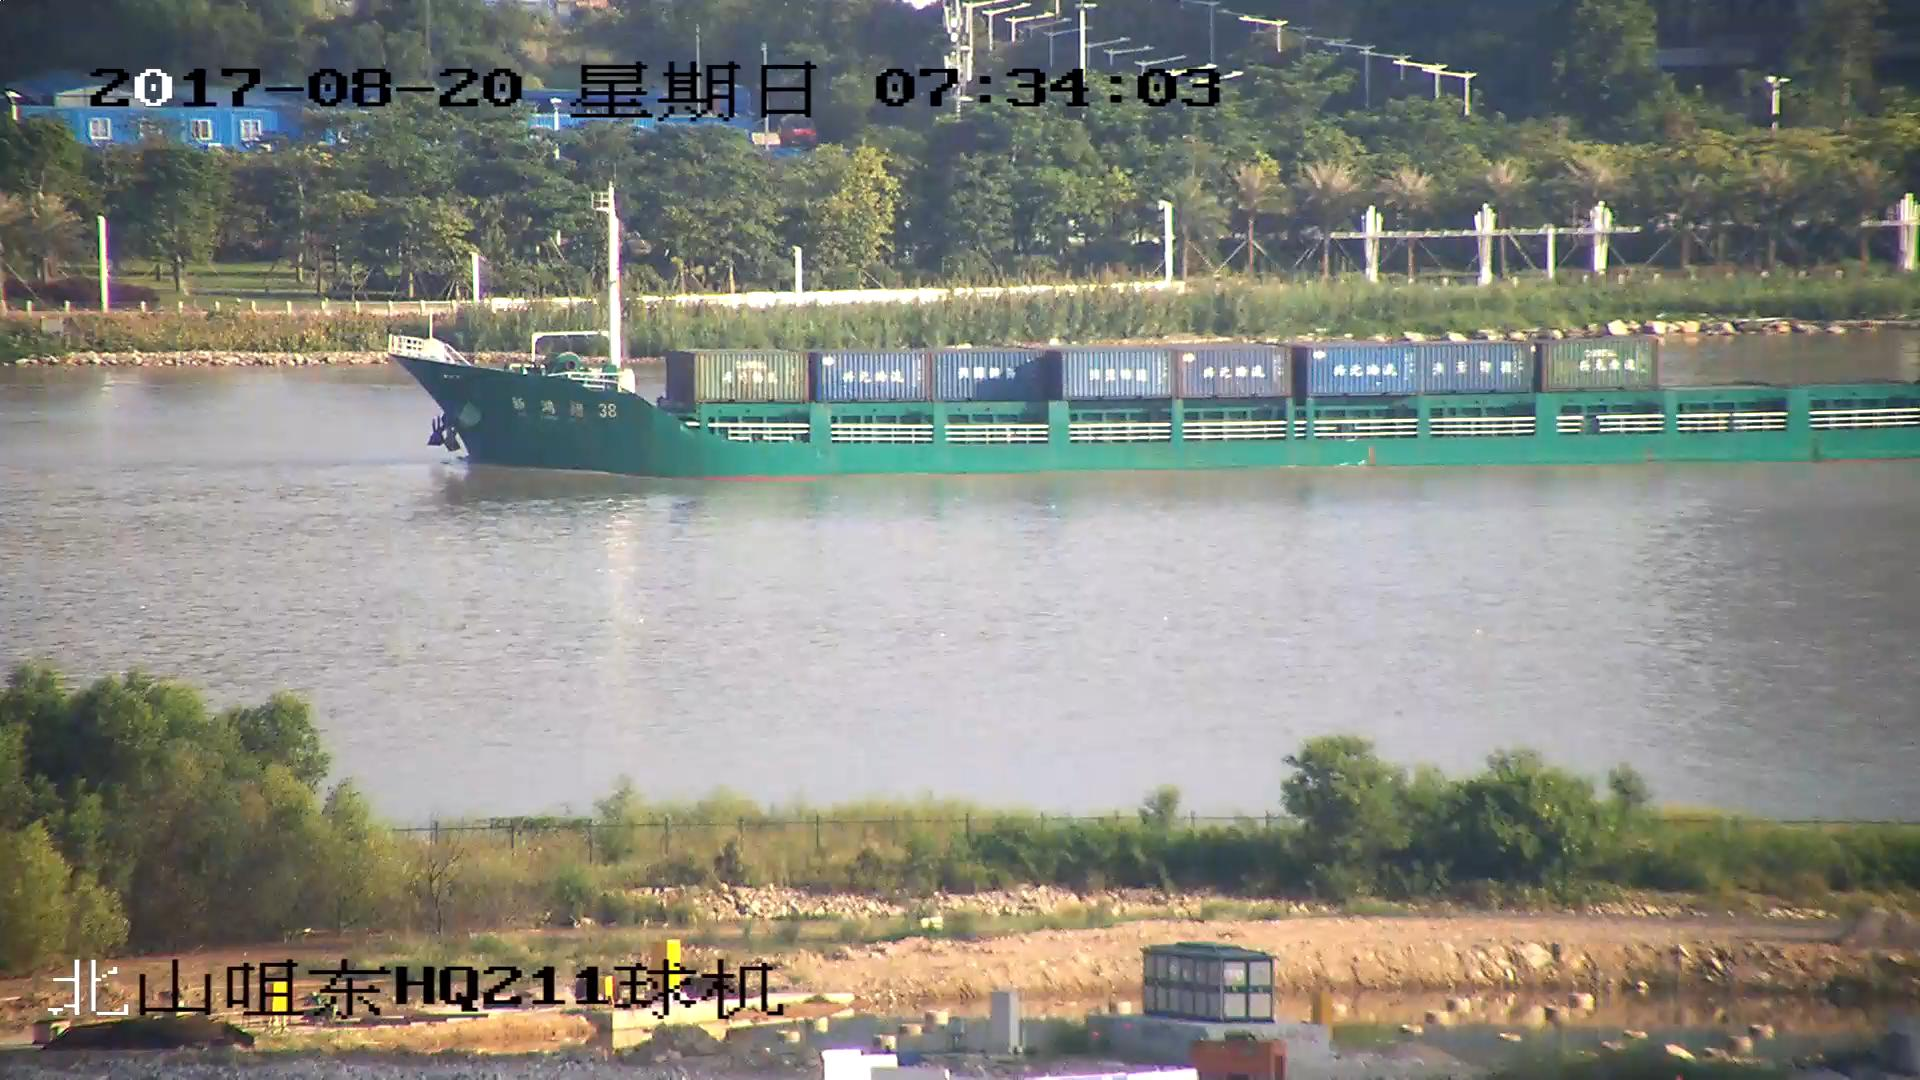general cargo ship: (384, 203, 1920, 485)
